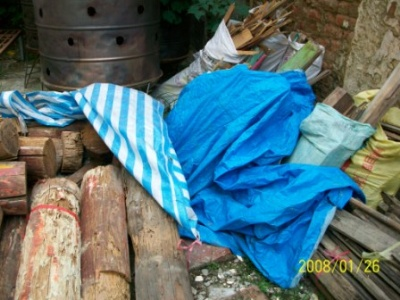bucket: (33, 1, 163, 92)
plastic_bag: (173, 71, 333, 238), (1, 82, 172, 132)
